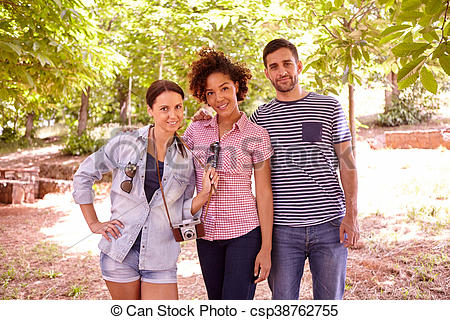person: (250, 39, 352, 163), (109, 70, 194, 191), (185, 49, 262, 168)
